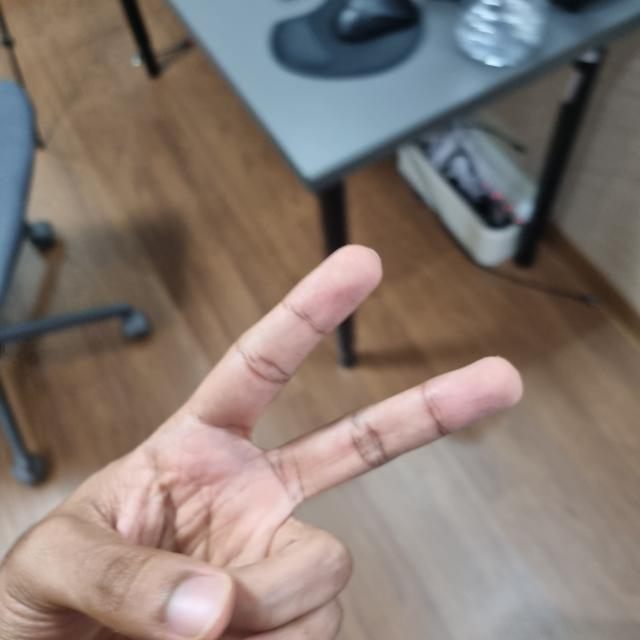Scissors: (0, 252, 516, 640)
